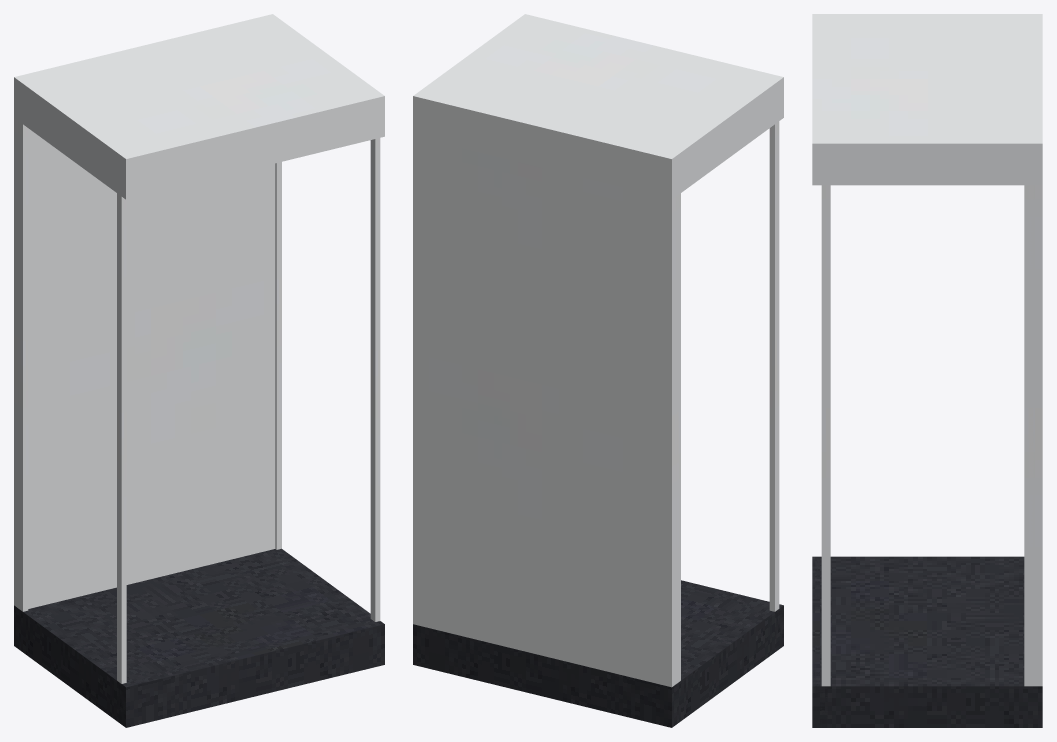
3 renders of one model, left to right at view 1: azimuth 30°, elevation 25°; view 2: azimuth 150°, elevation 25°; view 3: azimuth 270°, elevation 25°, orthographic. The views are drawn at different scales.
Parts seen in each view (by area): view 1: Decor_shelf_kit/fridge; view 2: Decor_shelf_kit/fridge; view 3: Decor_shelf_kit/fridge.
Part boxes in pixels (box(x1,y1,x2,y2)): Decor_shelf_kit/fridge: box(14, 14, 384, 727); Decor_shelf_kit/fridge: box(413, 14, 783, 727); Decor_shelf_kit/fridge: box(812, 14, 1042, 727).
Size of the model in its own units: 1 by 2.1 by 0.75.
Materials: 3 (2 with a texture image).
